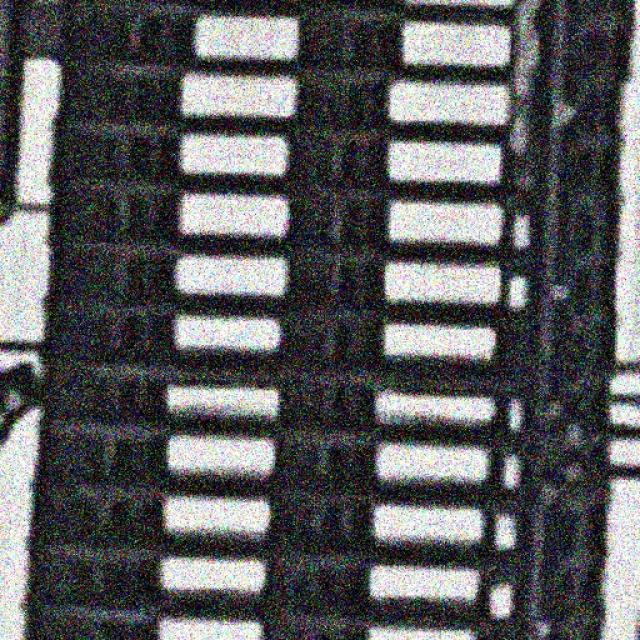igps: (33, 351, 622, 442), (25, 421, 618, 509), (34, 299, 621, 384), (21, 482, 616, 564), (36, 179, 629, 260), (16, 538, 614, 618), (44, 0, 640, 80), (35, 243, 626, 322), (46, 62, 635, 140), (41, 121, 630, 196), (14, 601, 610, 640)
